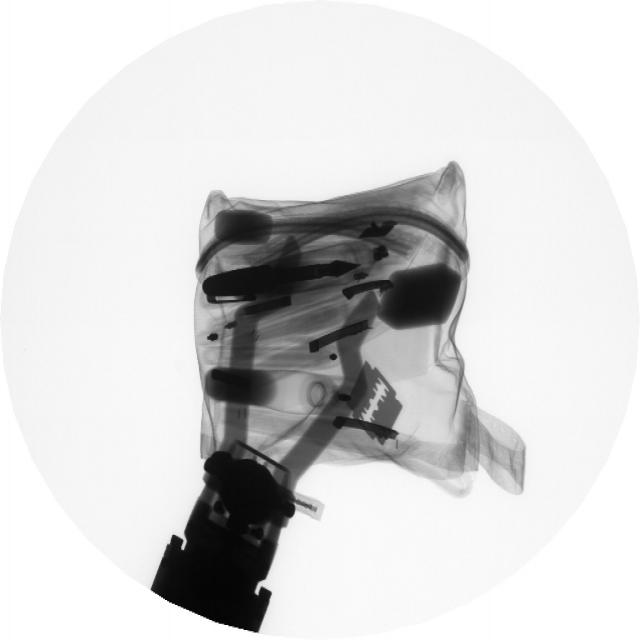BLADE: (328, 362, 407, 447)
